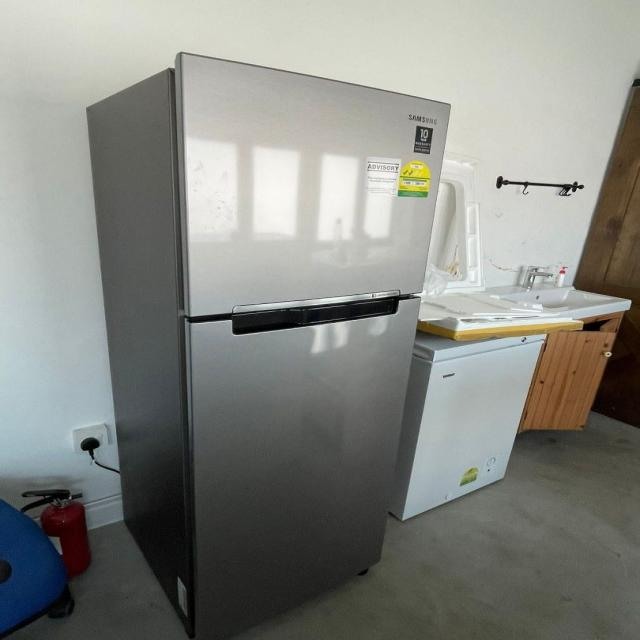refrigerator: (168, 34, 440, 631)
